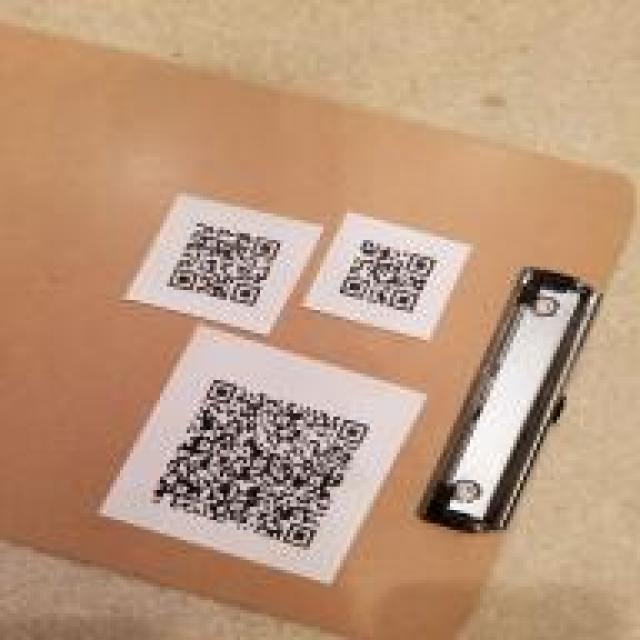QR_CODE: (133, 360, 387, 555), (148, 213, 294, 315), (330, 220, 450, 318)
